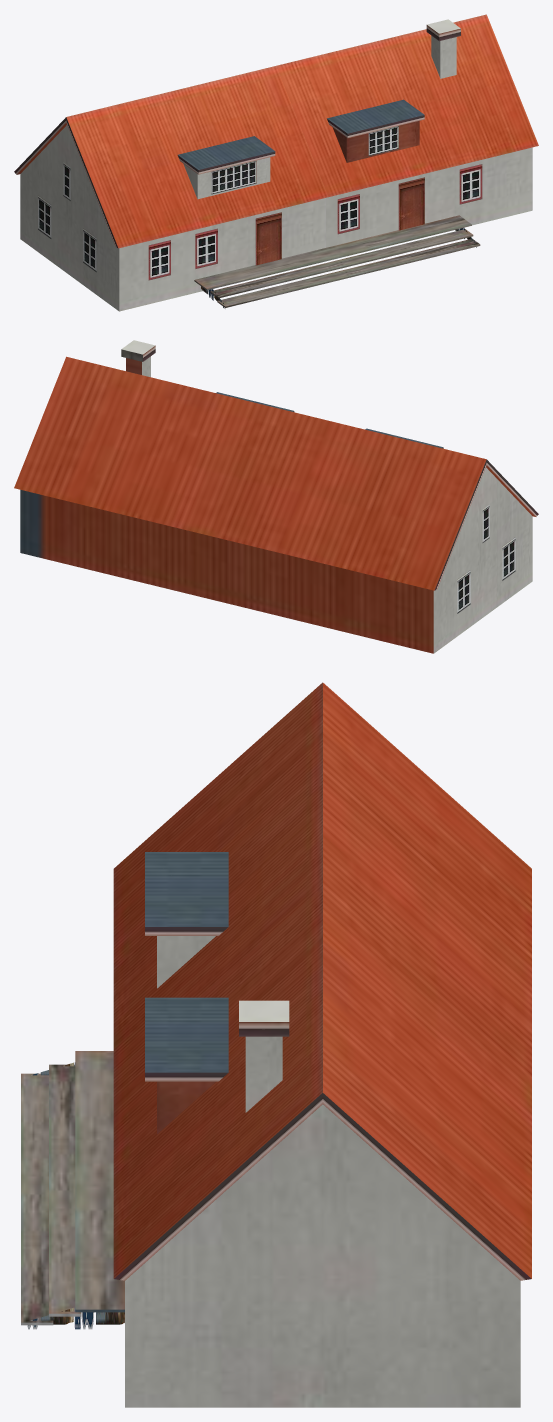
The model's file is fangzi.FBX.
The picture shows the model from 3 angles, top to bottom: view 1: azimuth 30°, elevation 25°; view 2: azimuth 150°, elevation 25°; view 3: azimuth 270°, elevation 25°; orthographic projection. The views are drawn at different scales.
Parts seen in each view (by area): view 1: fangzi; view 2: fangzi; view 3: fangzi.
Part boxes in pixels (x1,y1,x2,y2): fangzi: (14,14,538,311); fangzi: (14,340,538,653); fangzi: (21,682,531,1407).
Size of the model in its own units: 25.7 by 10.04 by 13.53.
Materials: 2 (2 with a texture image).
